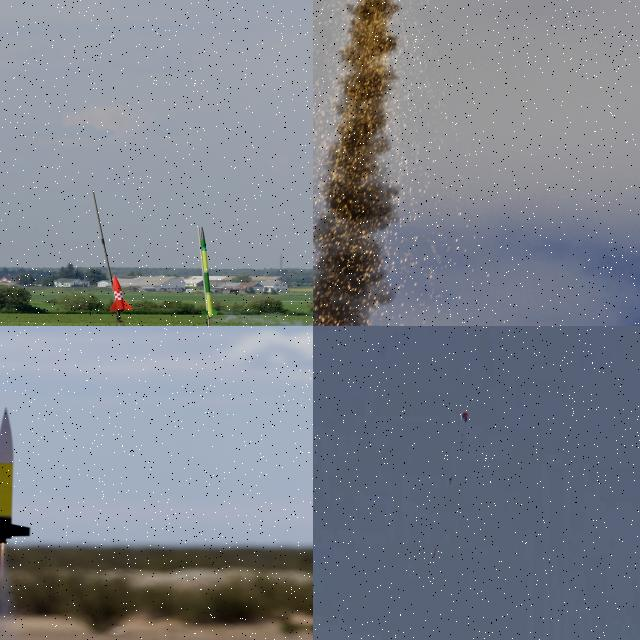Rocket: (0, 407, 30, 544), (200, 226, 218, 318), (109, 274, 132, 313), (433, 546, 437, 558)
